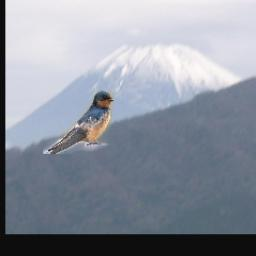Swallow: (43, 90, 114, 154)
